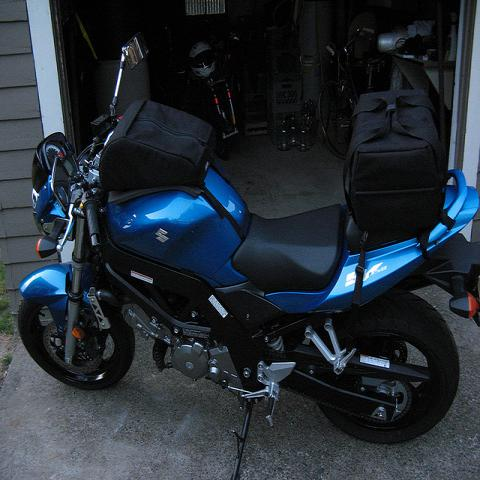motorcycle: (17, 34, 480, 479), (186, 24, 249, 160)
